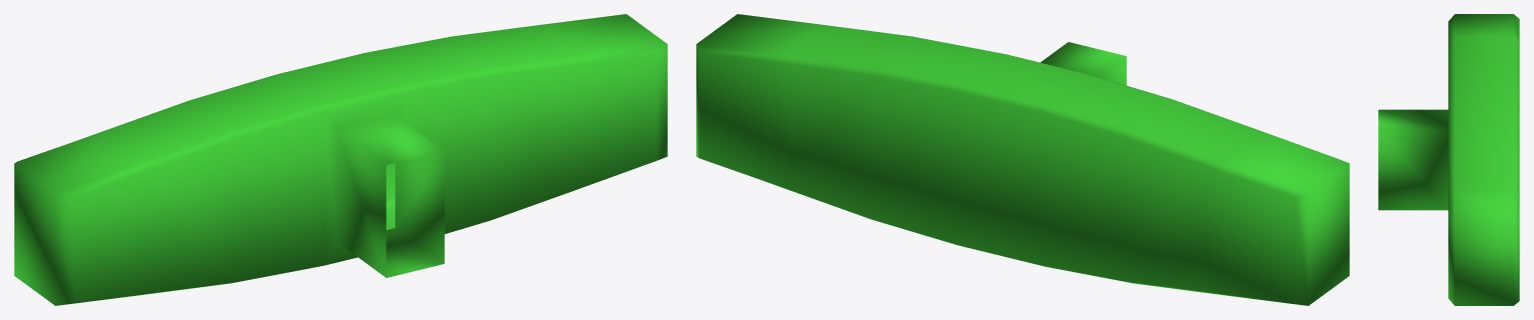
The model's file is VMP_MOD_Bulk_machine_01_switch_01.fbx.
3 renders of one model, left to right at view 1: azimuth 30°, elevation 25°; view 2: azimuth 150°, elevation 25°; view 3: azimuth 270°, elevation 25°, orthographic. The views are drawn at different scales.
Visible parts, largest first — view 1: VMP_MOD_Bulk_machine_01_switch_01; view 2: VMP_MOD_Bulk_machine_01_switch_01; view 3: VMP_MOD_Bulk_machine_01_switch_01.
Boxes of the visible parts, bbox=[...] form: VMP_MOD_Bulk_machine_01_switch_01: bbox=[14, 14, 667, 305]; VMP_MOD_Bulk_machine_01_switch_01: bbox=[696, 14, 1349, 305]; VMP_MOD_Bulk_machine_01_switch_01: bbox=[1378, 14, 1519, 305].
Bounding box in the file's own units: 0.125 × 0.0317 × 0.0351.
